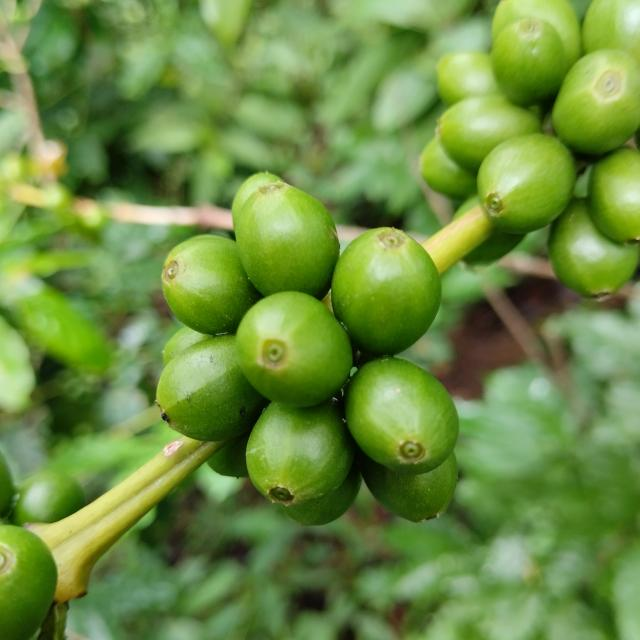green: (332, 227, 442, 356), (344, 357, 460, 475), (236, 291, 353, 407), (235, 181, 340, 299), (156, 335, 268, 442), (246, 399, 355, 506), (161, 234, 262, 335), (478, 133, 576, 234), (553, 48, 640, 154), (549, 199, 640, 298), (436, 94, 542, 172), (358, 449, 458, 523), (492, 16, 569, 106), (0, 526, 56, 640), (281, 462, 362, 526), (589, 148, 640, 243), (231, 171, 284, 228)
